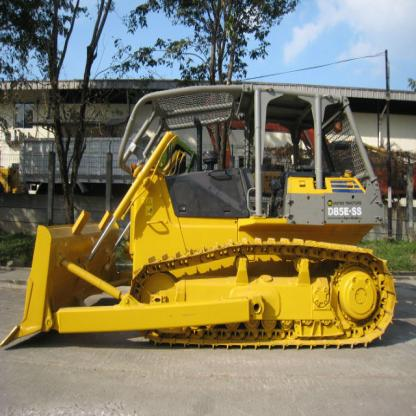bull_dozer/loader/grader: (21, 72, 416, 368)
